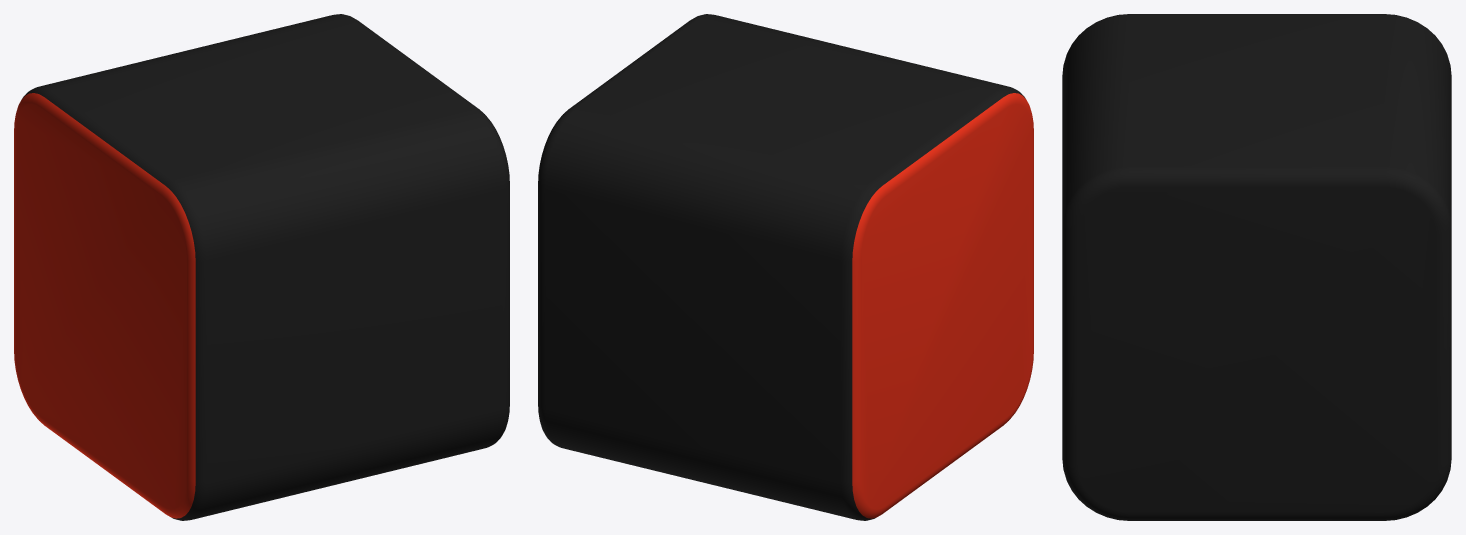
The model's file is r_center.glb.
3 views of the same model, side by side, from view 1: azimuth 30°, elevation 25°; view 2: azimuth 150°, elevation 25°; view 3: azimuth 270°, elevation 25° (orthographic). The views are drawn at different scales.
Parts seen in each view (by area): view 1: Cube.014; view 2: Cube.014; view 3: Cube.014.
Boxes of the visible parts, left/top/right/bottom form: Cube.014: left=14, top=14, right=509, bottom=520; Cube.014: left=538, top=14, right=1033, bottom=520; Cube.014: left=1062, top=14, right=1451, bottom=520.
Bounding box in the file's own units: 2 × 2 × 2.
